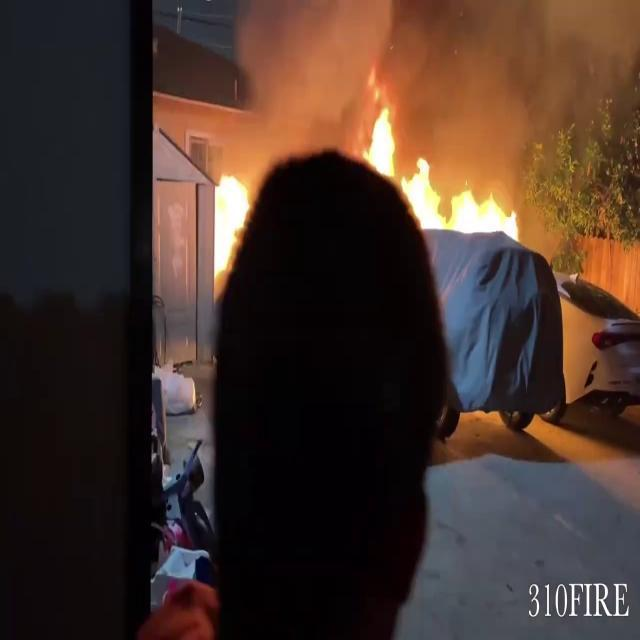Fire: (362, 86, 518, 244), (208, 156, 254, 282)
Smoke: (222, 0, 638, 149)
